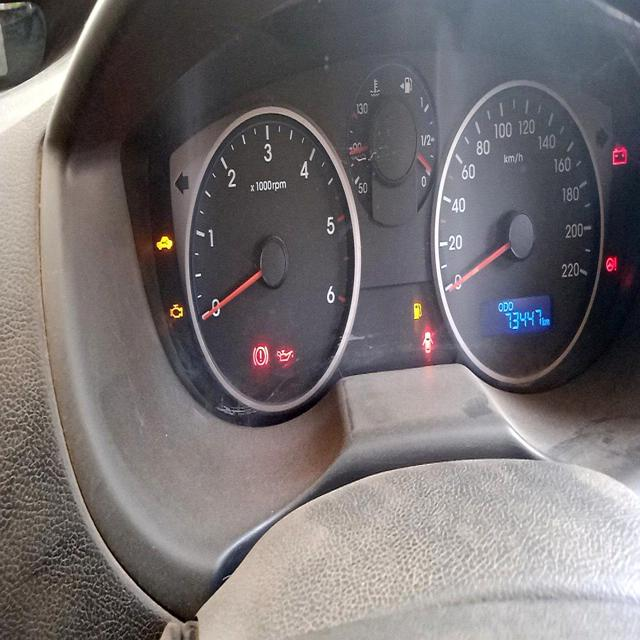odometer: (504, 306, 544, 333)
